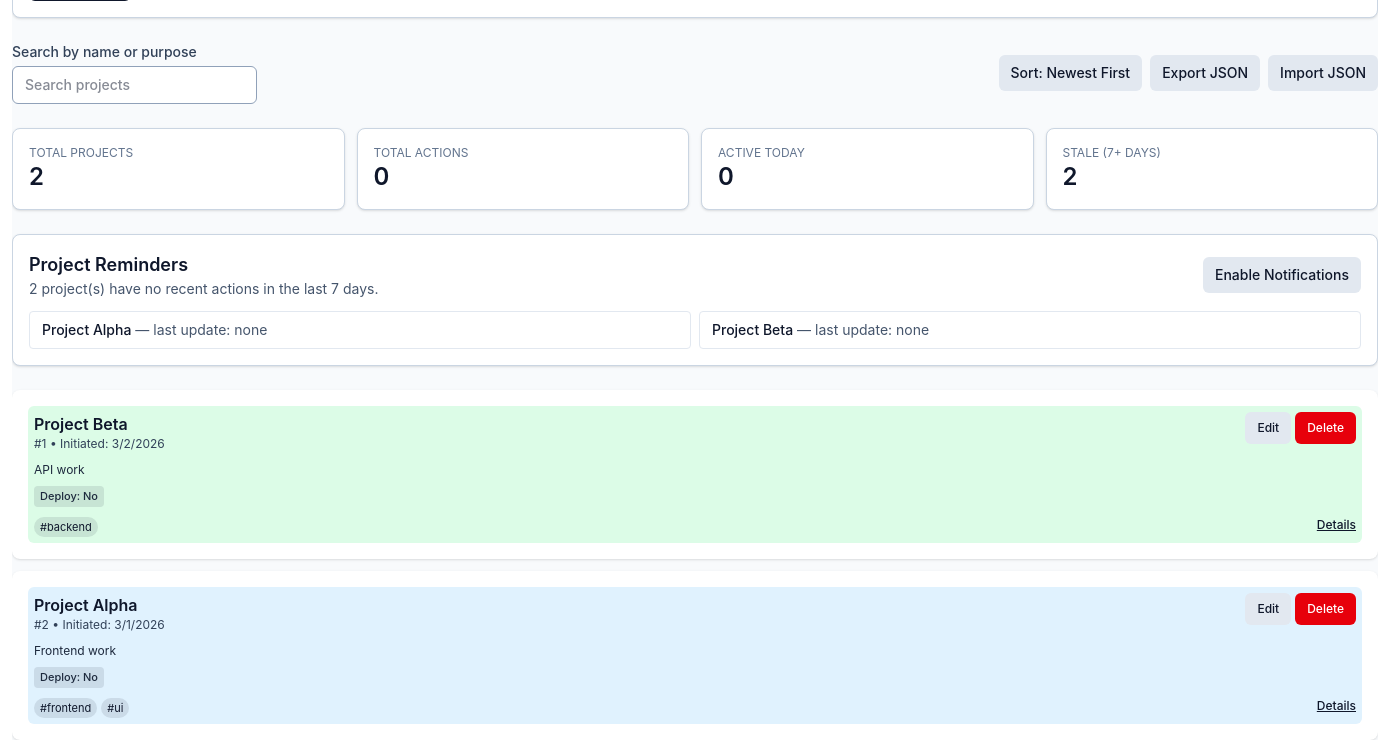
Test: DashboardPage › clears filter and restores full list
The image size is (1390, 740).
(page scrolled)
expect the heading "Project Alpha" is shown: met, box [34,595,138,615]
expect the heading "Project Beta" is shown: met, box [34,414,128,434]
Click the button "#frontend" at (66, 708), box [34,698,97,718]
(page scrolled)
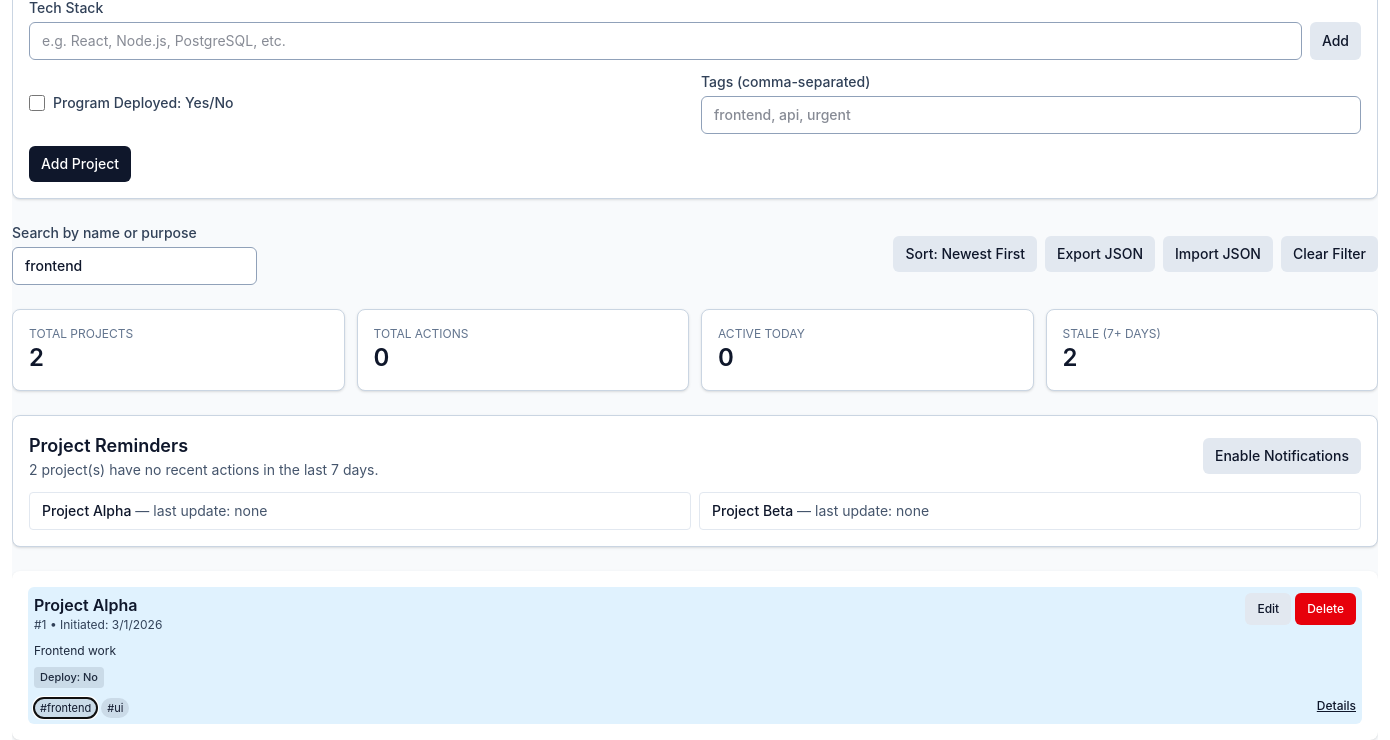
Click the button "Clear Filter" at (1330, 254), box [1281,236,1378,272]
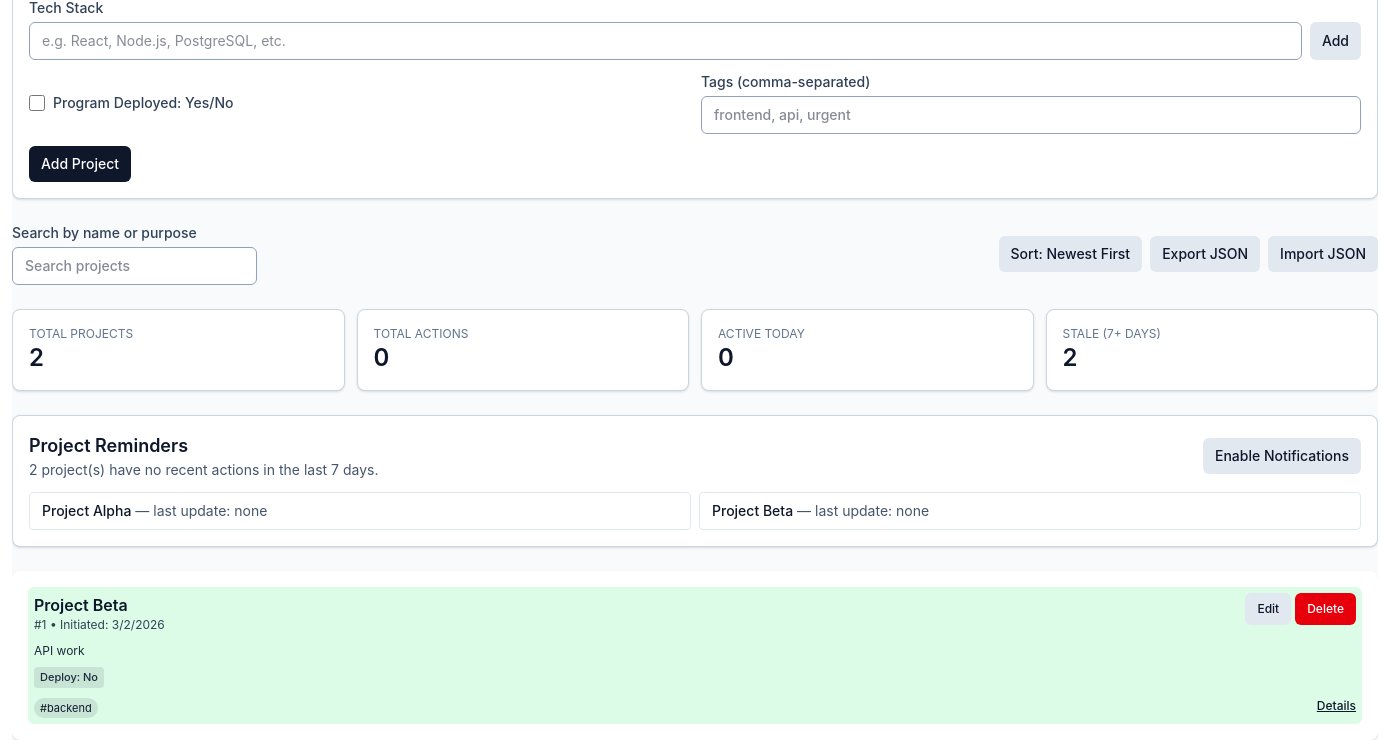
expect the field labelled "Search by name or purpose" is empty: met, box [12,247,257,285]
expect the heading "Project Beta" is shown: met, box [34,595,128,615]
